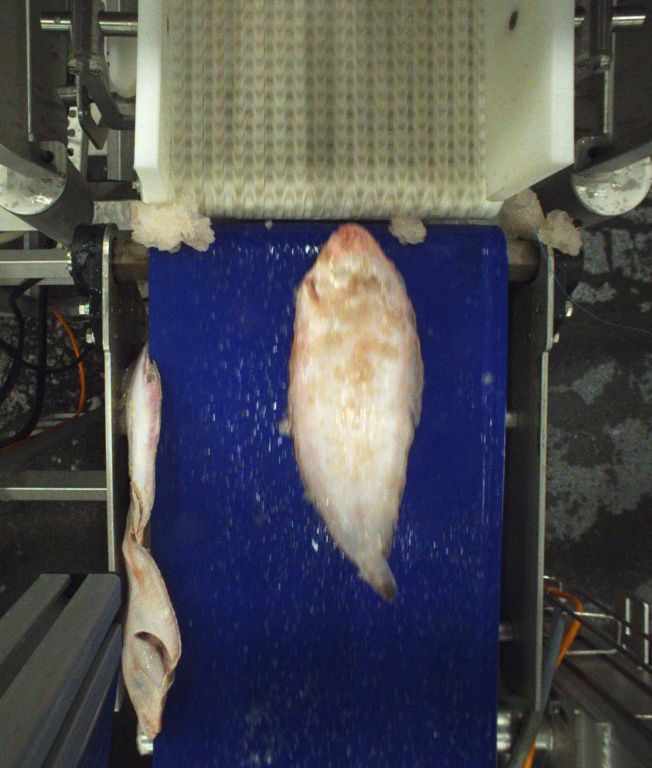SOL: (288, 222, 426, 604)
